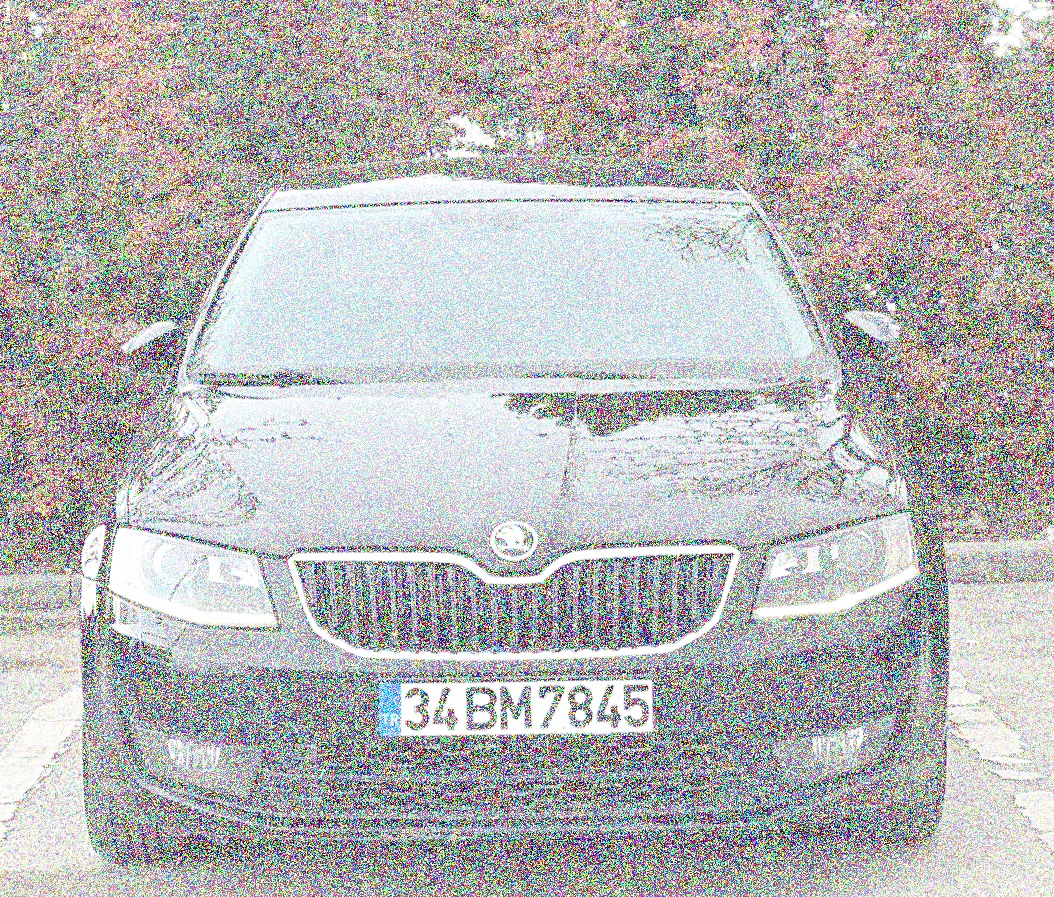plaka: (398, 666, 672, 748)
